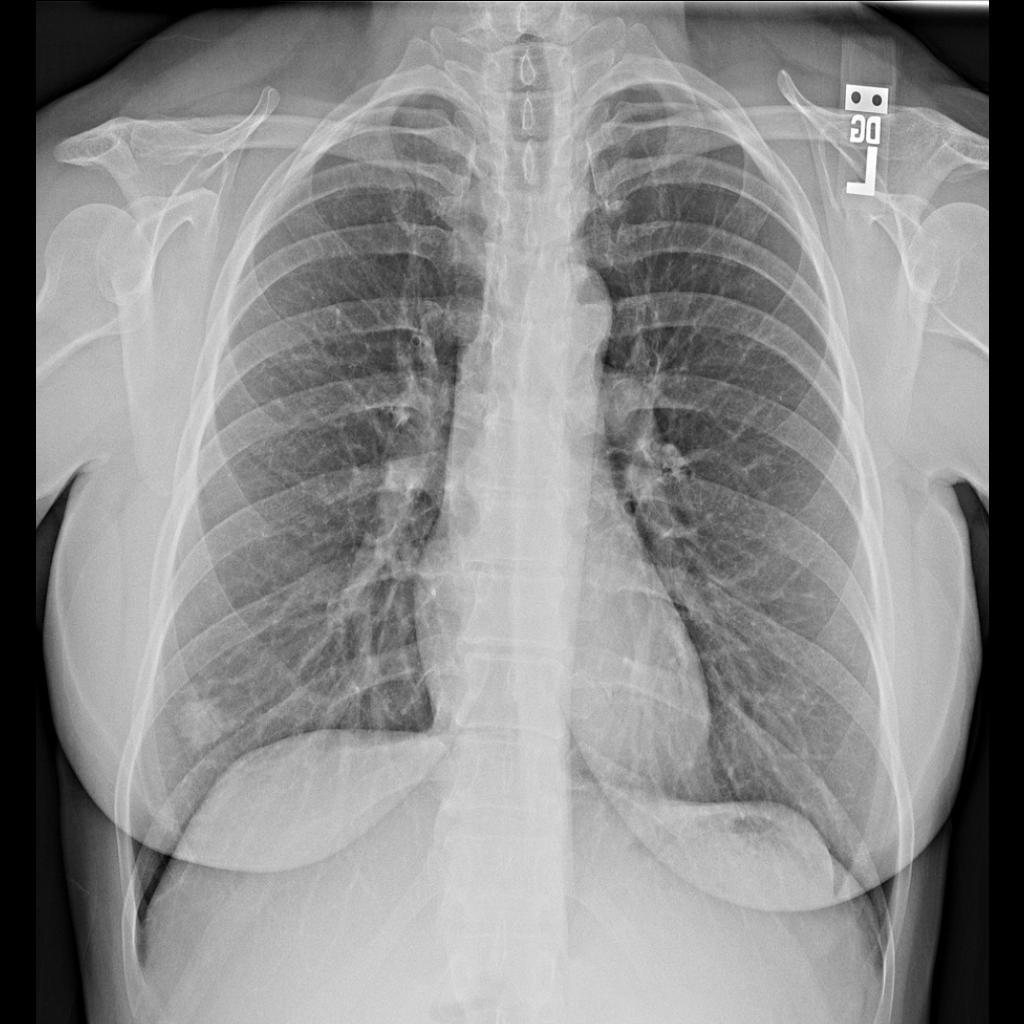Nodule: (178, 694, 235, 752)
